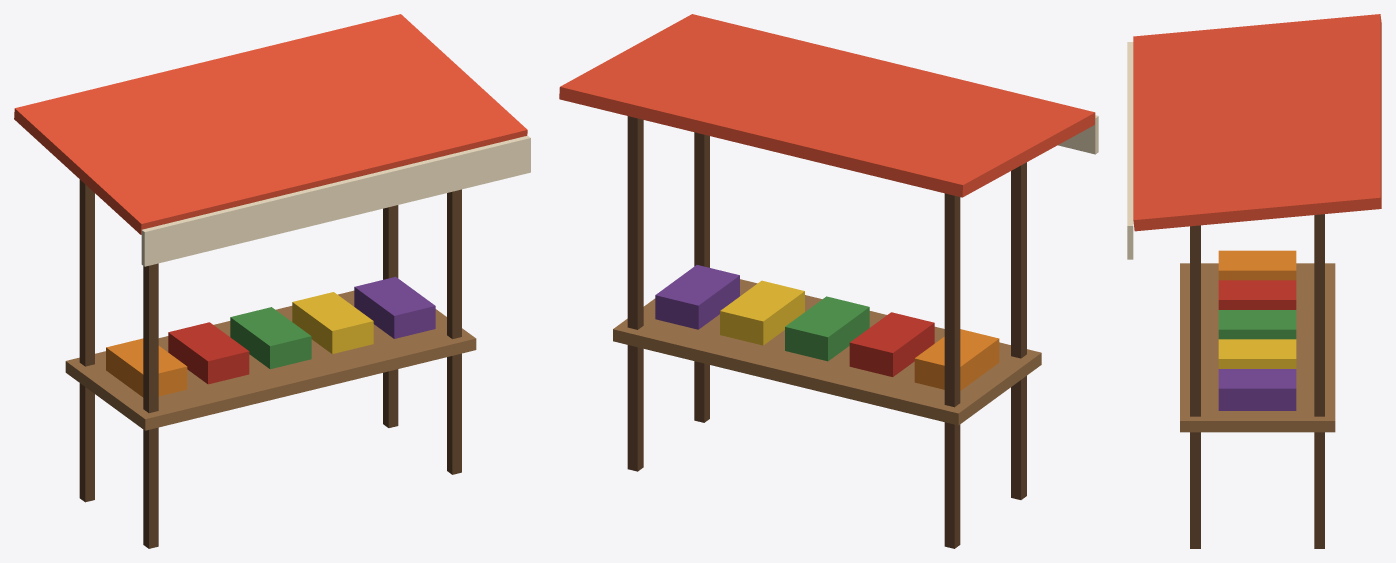
File: stall.glb
3 views of the same model, side by side, from view 1: azimuth 30°, elevation 25°; view 2: azimuth 150°, elevation 25°; view 3: azimuth 270°, elevation 25° (orthographic). The views are drawn at different scales.
Parts seen in each view (by area): view 1: stall; view 2: stall; view 3: stall.
Part boxes in pixels (x1,y1,x2,y2): stall: (14,14,530,548); stall: (559,14,1098,548); stall: (1127,14,1381,548).
Size of the model in its own units: 2.8 by 2.62 by 1.64.
